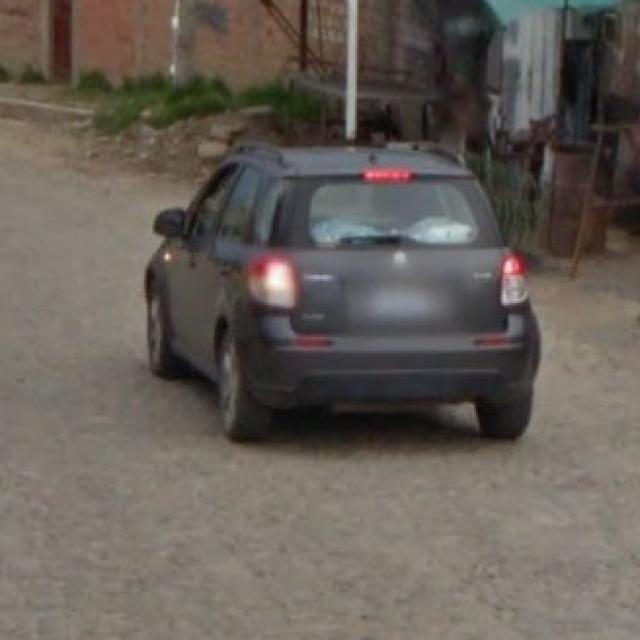Car: (141, 133, 544, 444)
